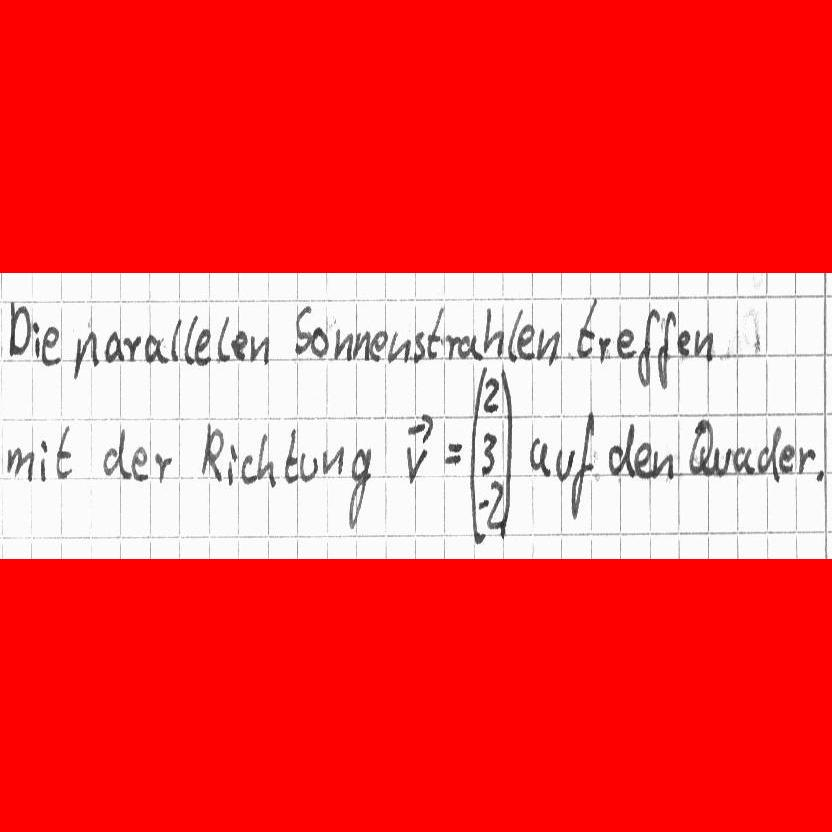Char: (569, 412, 601, 521), (499, 368, 515, 538), (471, 364, 485, 546), (346, 448, 371, 530), (101, 425, 132, 481), (403, 425, 431, 487), (686, 418, 715, 476), (69, 325, 98, 382), (636, 311, 657, 387), (199, 421, 224, 483), (756, 425, 782, 484), (572, 296, 595, 359), (609, 422, 633, 478), (659, 306, 675, 387), (7, 299, 29, 356), (482, 306, 505, 359), (400, 409, 434, 444), (255, 432, 276, 487), (55, 423, 73, 481), (5, 443, 33, 480), (292, 303, 311, 357), (536, 327, 561, 366), (506, 307, 523, 364), (527, 435, 549, 478), (282, 426, 298, 484), (40, 323, 61, 367), (486, 479, 504, 530), (427, 305, 444, 358), (479, 429, 497, 478), (191, 326, 211, 368), (730, 442, 753, 477), (387, 331, 411, 364), (740, 310, 759, 351), (554, 447, 576, 482), (144, 332, 167, 365), (457, 332, 483, 361), (479, 374, 497, 415), (652, 450, 675, 482), (184, 313, 198, 365), (633, 440, 652, 478), (321, 445, 343, 477), (151, 451, 171, 486), (695, 328, 714, 364), (131, 445, 148, 485), (334, 328, 354, 361), (103, 330, 122, 364), (518, 319, 533, 362), (368, 329, 387, 362), (249, 332, 268, 365), (216, 312, 228, 364), (595, 330, 613, 364), (312, 326, 330, 360), (230, 326, 246, 363), (616, 327, 635, 358), (444, 437, 463, 468), (123, 332, 142, 363), (351, 330, 370, 361), (170, 317, 182, 363), (796, 445, 815, 474), (779, 442, 795, 476), (301, 452, 319, 482), (239, 453, 255, 486), (713, 445, 730, 476), (412, 329, 427, 363), (39, 438, 50, 482), (444, 333, 461, 361), (678, 328, 693, 359), (29, 320, 40, 361), (227, 445, 237, 484), (815, 465, 829, 484), (478, 497, 488, 511)
